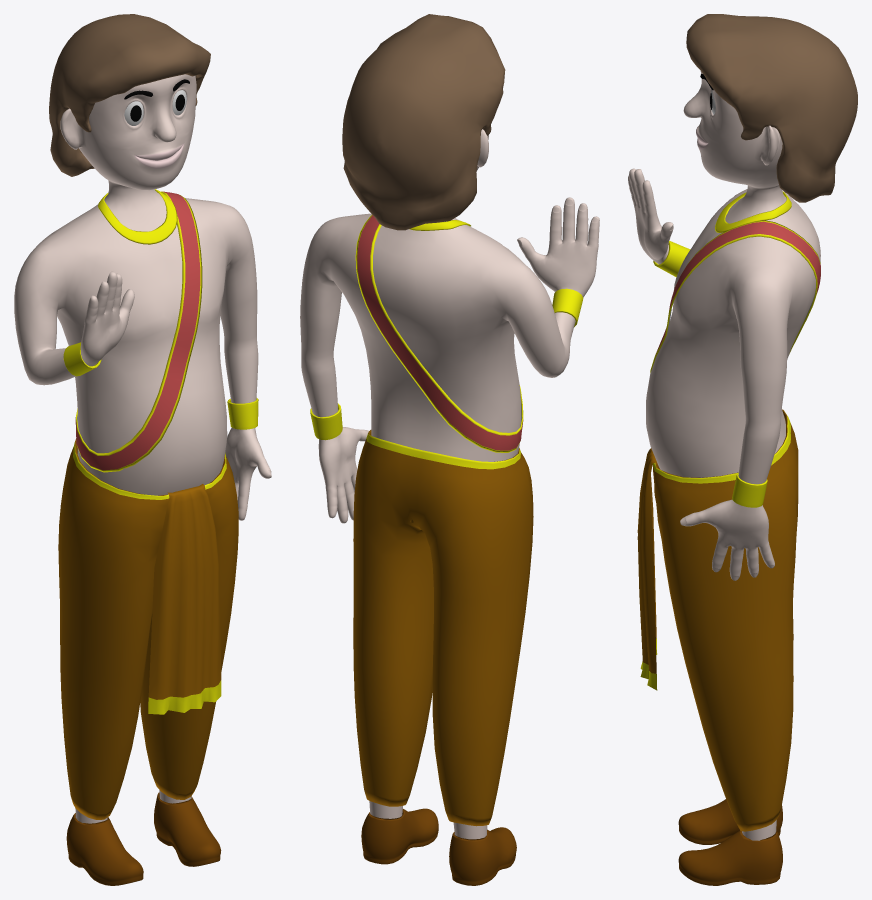
The model's file is Kartik FBX.fbx.
3 renders of one model, left to right at view 1: azimuth 30°, elevation 25°; view 2: azimuth 150°, elevation 25°; view 3: azimuth 270°, elevation 25°, orthographic.
Visible parts, largest first — view 1: polySurface3; view 2: polySurface3; view 3: polySurface3.
Boxes of the visible parts, left/top/right/bottom form: polySurface3: left=14, top=14, right=271, bottom=885; polySurface3: left=300, top=14, right=599, bottom=885; polySurface3: left=628, top=14, right=857, bottom=885.
Bounding box in the file's own units: 52.91 × 171 × 42.84.
